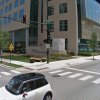crosswalk: (48, 69, 100, 84), (0, 69, 21, 77)
